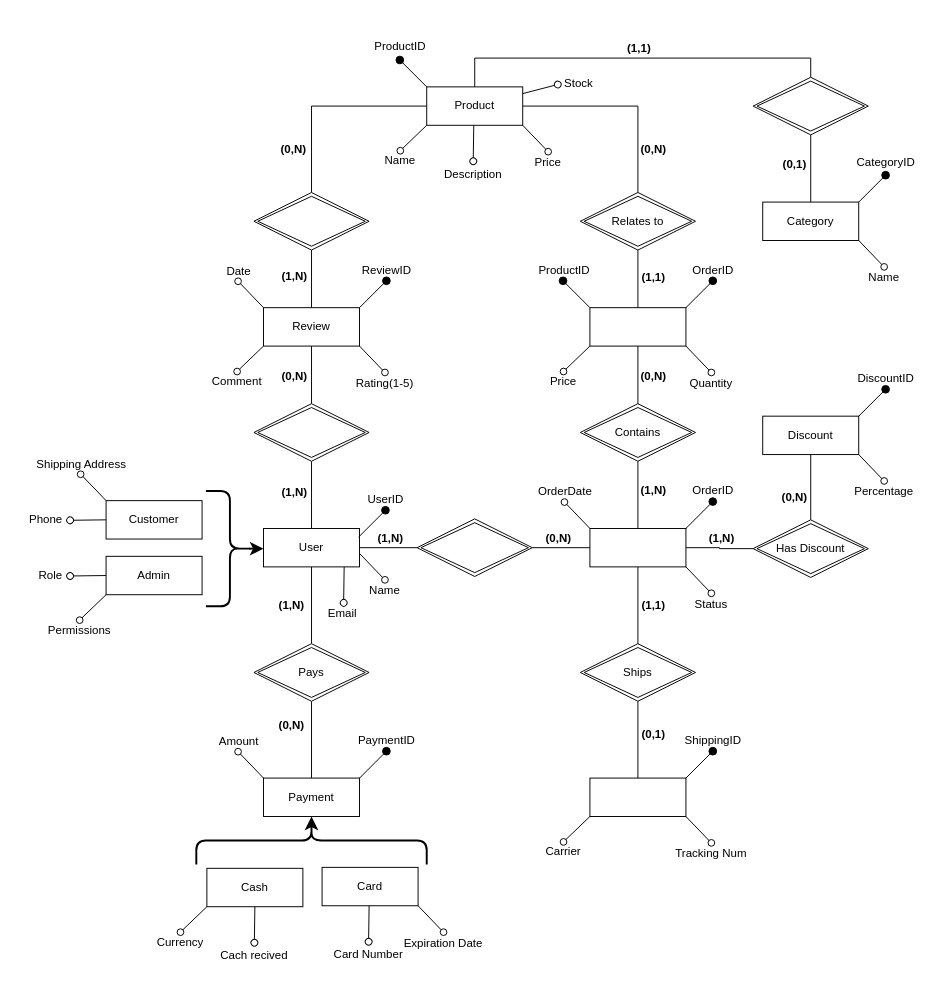
The diagram is 945 pixels wide and 987 high, and some of its shapes have lost their labels. Here are the shapes that lost their labels. From the top down, the box of each, then its label:
(752, 76, 868, 135): Belongs to
(253, 192, 369, 250): About
(589, 307, 686, 346): Order_Item
(253, 403, 369, 461): Writes
(416, 518, 532, 576): Places
(589, 528, 686, 567): Order
(589, 777, 686, 816): Shipping
